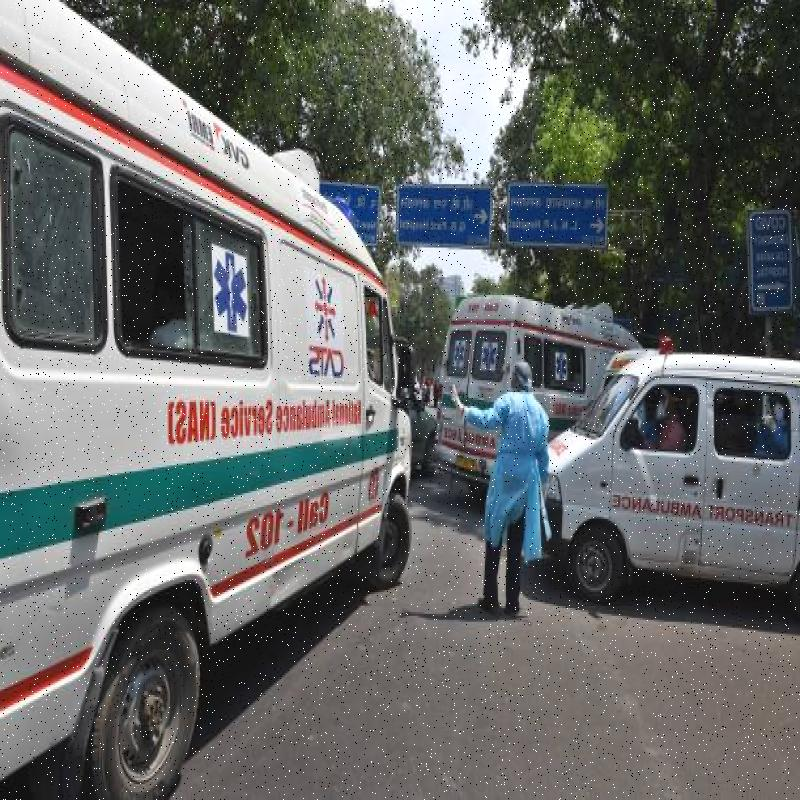AmbulanceSiren: (414, 290, 622, 484)
ambulance: (0, 4, 419, 800)
